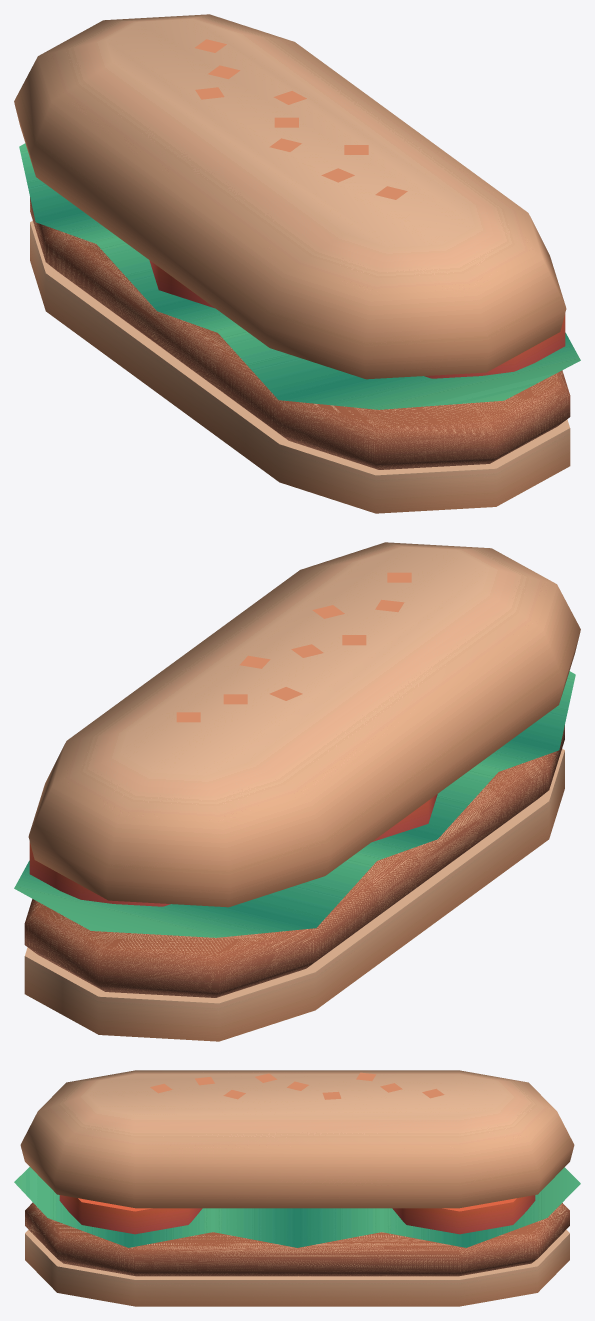
The picture shows the model from 3 angles, top to bottom: view 1: azimuth 30°, elevation 25°; view 2: azimuth 150°, elevation 25°; view 3: azimuth 270°, elevation 25°; orthographic projection. The views are drawn at different scales.
Visible parts, largest first — view 1: bun-top, meat, bun-bottom, lettuce, tomato (×2); view 2: bun-top, meat, bun-bottom, lettuce, tomato (×2); view 3: bun-top, meat, bun-bottom, lettuce, tomato (×2).
Boxes of the visible parts, x1,y1,x2,y2 form: bun-top: (14, 14, 566, 379); meat: (30, 197, 570, 469); bun-bottom: (30, 221, 570, 513); lettuce: (19, 143, 580, 409); tomato (×2): (149, 260, 565, 378); bun-top: (28, 542, 580, 907); meat: (24, 725, 564, 997); bun-bottom: (24, 749, 564, 1041); lettuce: (14, 671, 575, 937); tomato (×2): (29, 794, 437, 906); bun-top: (20, 1070, 574, 1208); meat: (25, 1202, 569, 1276); bun-bottom: (25, 1229, 569, 1306); lettuce: (14, 1167, 580, 1247); tomato (×2): (59, 1195, 535, 1234).
Bounding box in the file's own units: 0.2827 × 0.2225 × 0.6756.
Materials: 1 (1 with a texture image).
